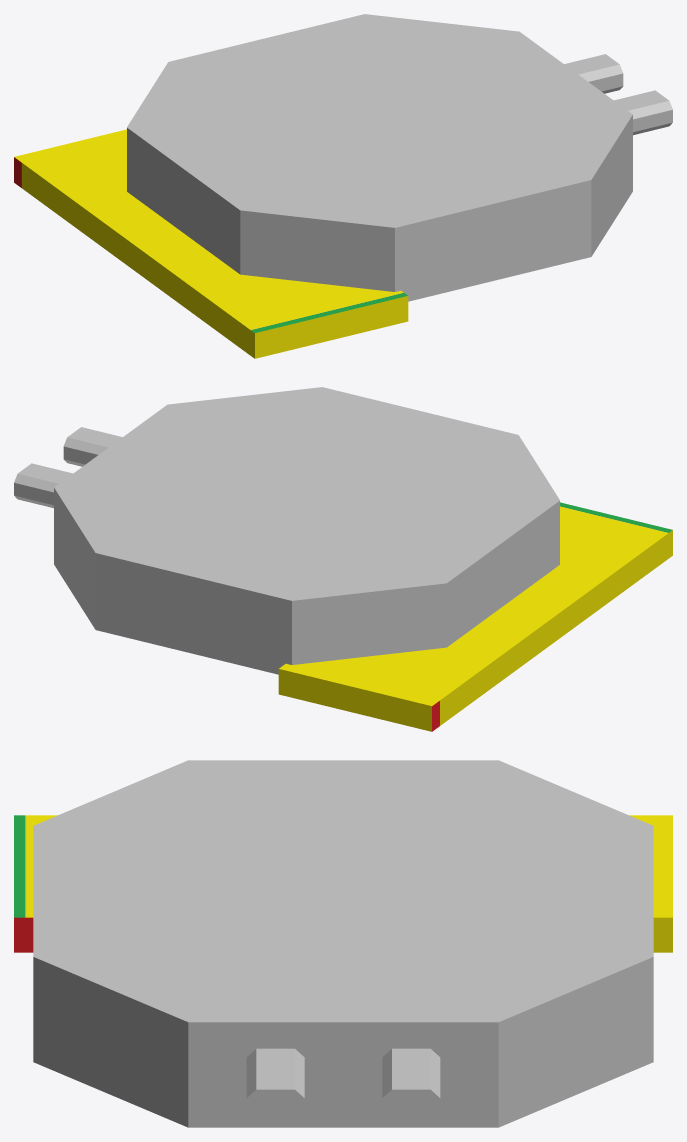
File: Dockgrun.dae
3 views of the same model, one above another, from view 1: azimuth 30°, elevation 25°; view 2: azimuth 150°, elevation 25°; view 3: azimuth 270°, elevation 25° (orthographic). The views are drawn at different scales.
Parts seen in each view (by area): view 1: dockhaupt, cube19, out, in; view 2: dockhaupt, cube19, in, out; view 3: dockhaupt, cube19, in, out.
Part boxes in pixels (left/top/right/bottom): dockhaupt: left=127, top=14, right=632, bottom=301; cube19: left=14, top=129, right=408, bottom=358; out: left=614, top=90, right=672, bottom=135; in: left=564, top=54, right=623, bottom=93; dockhaupt: left=54, top=387, right=559, bottom=674; cube19: left=278, top=502, right=672, bottom=731; in: left=14, top=463, right=72, bottom=508; out: left=63, top=427, right=122, bottom=466; dockhaupt: left=33, top=760, right=653, bottom=1127; cube19: left=14, top=815, right=672, bottom=952; in: left=382, top=1048, right=440, bottom=1124; out: left=246, top=1048, right=304, bottom=1124.
Bounding box in the file's own units: 5248 × 896 × 4352.
